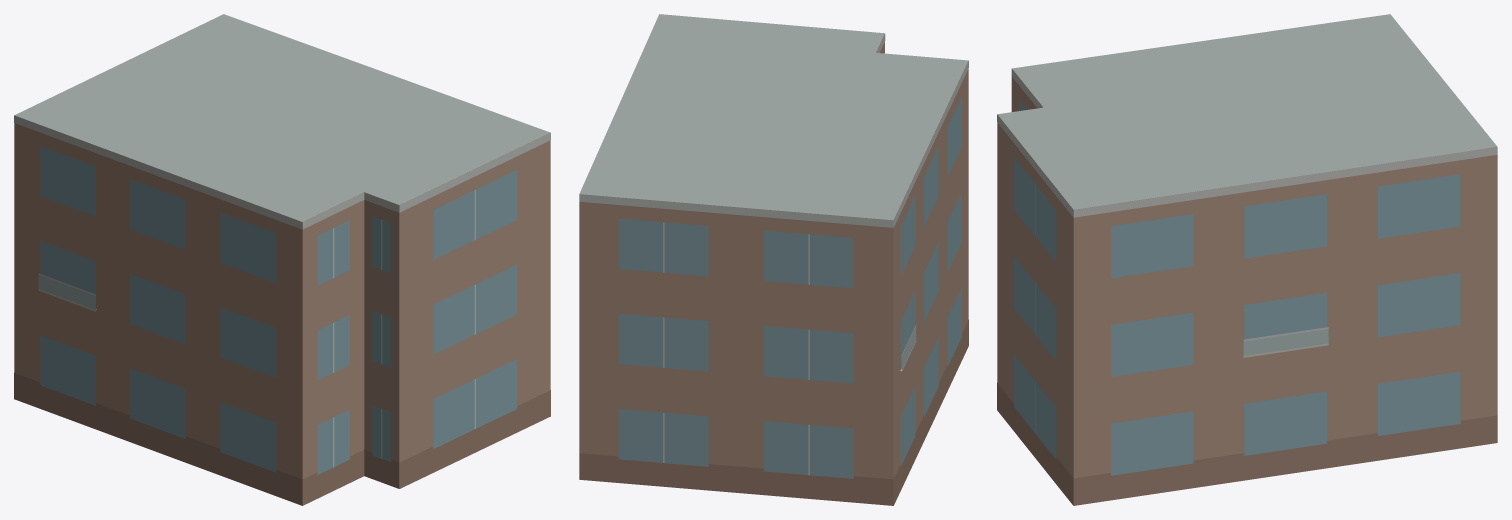
The model's file is survey-upis-32702941.glb.
3 renders of one model, left to right at view 1: azimuth 30°, elevation 25°; view 2: azimuth 150°, elevation 25°; view 3: azimuth 270°, elevation 25°, orthographic. The views are drawn at different scales.
Visible parts, largest first — view 1: survey-upis-32702941.tmp; view 2: survey-upis-32702941.tmp; view 3: survey-upis-32702941.tmp.
Part boxes in pixels (x1,y1,x2,y2): survey-upis-32702941.tmp: (14,14,550,505); survey-upis-32702941.tmp: (579,14,968,505); survey-upis-32702941.tmp: (997,14,1497,505).
Bounding box in the file's own units: 12.99 × 9.15 × 14.03.
